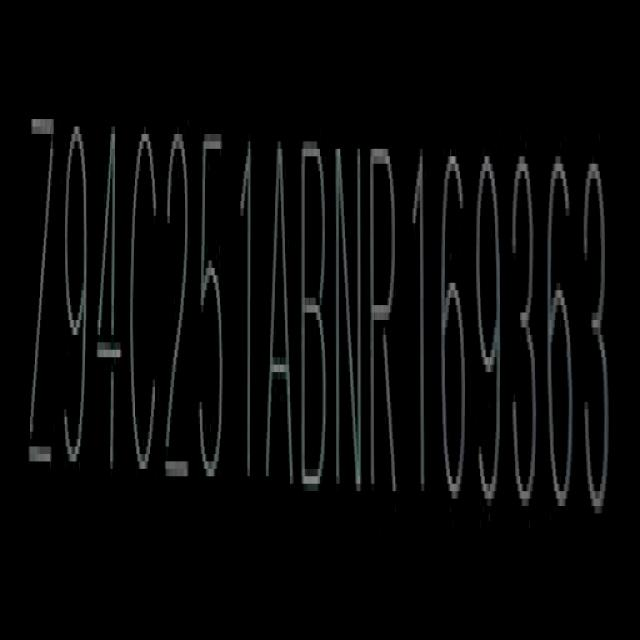1: (410, 147, 431, 507), (237, 130, 254, 492)
2: (164, 126, 194, 490)
3: (584, 164, 614, 516), (512, 154, 540, 517)
4: (97, 119, 126, 481)
5: (201, 128, 227, 493)
6: (439, 145, 468, 506), (548, 156, 576, 514)
9: (61, 117, 89, 485), (474, 150, 502, 512)
A: (265, 139, 295, 496)
B: (300, 136, 332, 499)
C: (132, 126, 161, 486)
N: (338, 138, 365, 501)
R: (372, 138, 402, 502)
Z: (24, 108, 56, 486)
